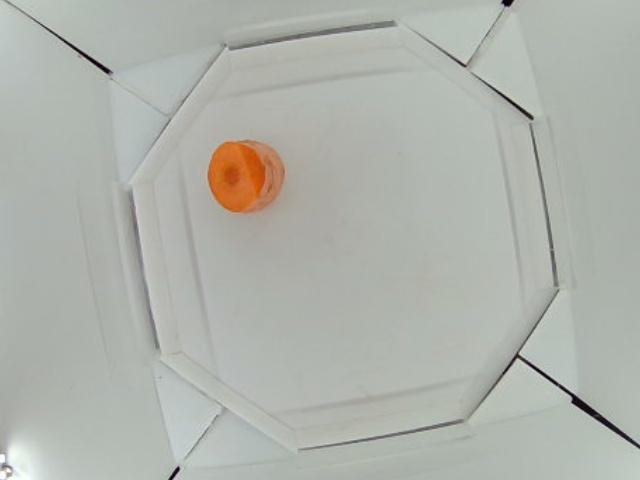Carrot: (208, 139, 285, 213)
